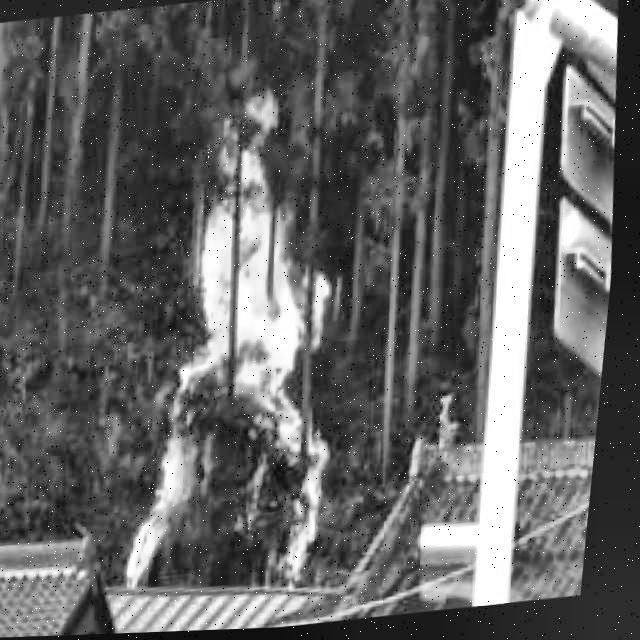Fire: (105, 77, 375, 606)
